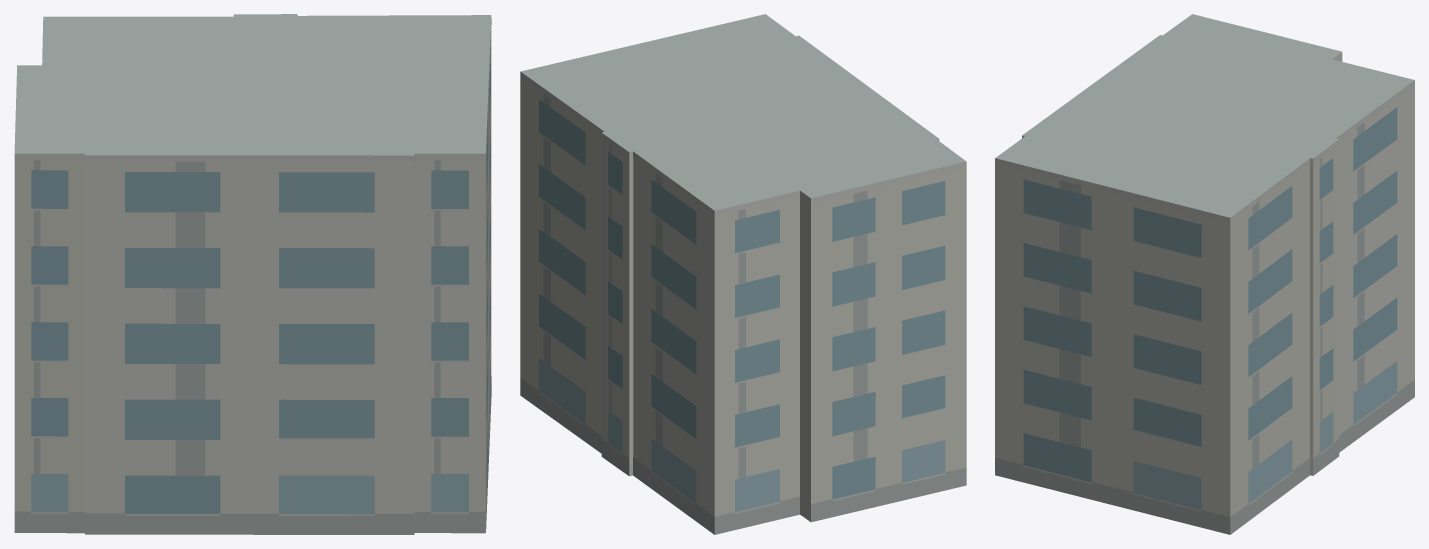
Rendered from survey-upis-32830382.glb.
3 renders of one model, left to right at view 1: azimuth 30°, elevation 25°; view 2: azimuth 150°, elevation 25°; view 3: azimuth 270°, elevation 25°, orthographic. The views are drawn at different scales.
Visible parts, largest first — view 1: survey-upis-32830382.tmp; view 2: survey-upis-32830382.tmp; view 3: survey-upis-32830382.tmp.
Boxes of the visible parts, x1,y1,x2,y2 form: survey-upis-32830382.tmp: [14, 14, 491, 534]; survey-upis-32830382.tmp: [520, 14, 966, 534]; survey-upis-32830382.tmp: [995, 14, 1414, 534].
Bounding box in the file's own units: 19.16 × 13.9 × 16.68.
